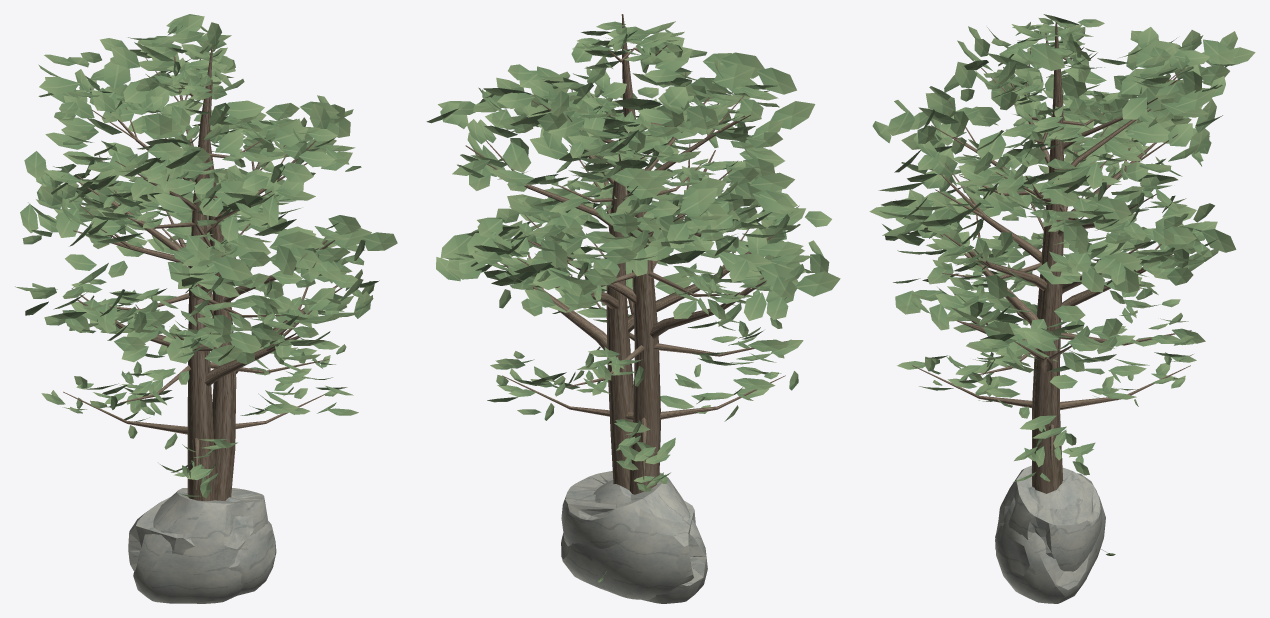
Rendered from nature-low-r8.glb.
3 renders of one model, left to right at view 1: azimuth 30°, elevation 25°; view 2: azimuth 150°, elevation 25°; view 3: azimuth 270°, elevation 25°, orthographic. The views are drawn at different scales.
Visible parts, largest first — view 1: alderTall_varied_leaf_sprays.001, alder_varied_leaf_sprays.001, pine_varied_leaf_sprays.001, boulder_fractured_weathered_mass.001, pine_curved_bark.001, alder_curved_bark.001, boulderLow_fractured_weathered_mass.001, alderTall_curved_bark.001; view 2: alderTall_varied_leaf_sprays.001, alder_varied_leaf_sprays.001, pine_varied_leaf_sprays.001, boulderLow_fractured_weathered_mass.001, boulder_fractured_weathered_mass.001, alder_curved_bark.001, pine_curved_bark.001, alderTall_curved_bark.001; view 3: alderTall_varied_leaf_sprays.001, alder_varied_leaf_sprays.001, pine_varied_leaf_sprays.001, alder_curved_bark.001, boulderLow_fractured_weathered_mass.001, boulder_fractured_weathered_mass.001, pine_curved_bark.001, alderTall_curved_bark.001.
Boxes of the visible parts, box(x1,y1,x2,y2) form: alderTall_varied_leaf_sprays.001: box(15, 14, 363, 364); alder_varied_leaf_sprays.001: box(20, 52, 397, 365); pine_varied_leaf_sprays.001: box(41, 45, 358, 498); boulder_fractured_weathered_mass.001: box(133, 488, 267, 603); pine_curved_bark.001: box(63, 48, 328, 500); alder_curved_bark.001: box(73, 88, 342, 500); boulderLow_fractured_weathered_mass.001: box(128, 490, 276, 595); alderTall_curved_bark.001: box(71, 52, 315, 500); alderTall_varied_leaf_sprays.001: box(467, 26, 840, 326); alder_varied_leaf_sprays.001: box(426, 47, 831, 316); pine_varied_leaf_sprays.001: box(487, 21, 803, 491); boulderLow_fractured_weathered_mass.001: box(561, 480, 695, 599); boulder_fractured_weathered_mass.001: box(561, 471, 707, 603); alder_curved_bark.001: box(465, 72, 773, 489); pine_curved_bark.001: box(502, 14, 786, 494); alderTall_curved_bark.001: box(524, 48, 766, 488); alderTall_varied_leaf_sprays.001: box(878, 26, 1225, 360); alder_varied_leaf_sprays.001: box(869, 27, 1255, 388); pine_varied_leaf_sprays.001: box(897, 14, 1205, 481); alder_curved_bark.001: box(931, 74, 1179, 493); boulderLow_fractured_weathered_mass.001: box(995, 473, 1105, 603); boulder_fractured_weathered_mass.001: box(995, 465, 1102, 571); pine_curved_bark.001: box(912, 22, 1191, 481); alderTall_curved_bark.001: box(935, 48, 1182, 357).
Bounding box in the file's own units: 6.52 × 9.37 × 5.87.
Materials: 2 (2 with a texture image).
